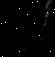Speed Limit -60-: (0, 0, 50, 54)
